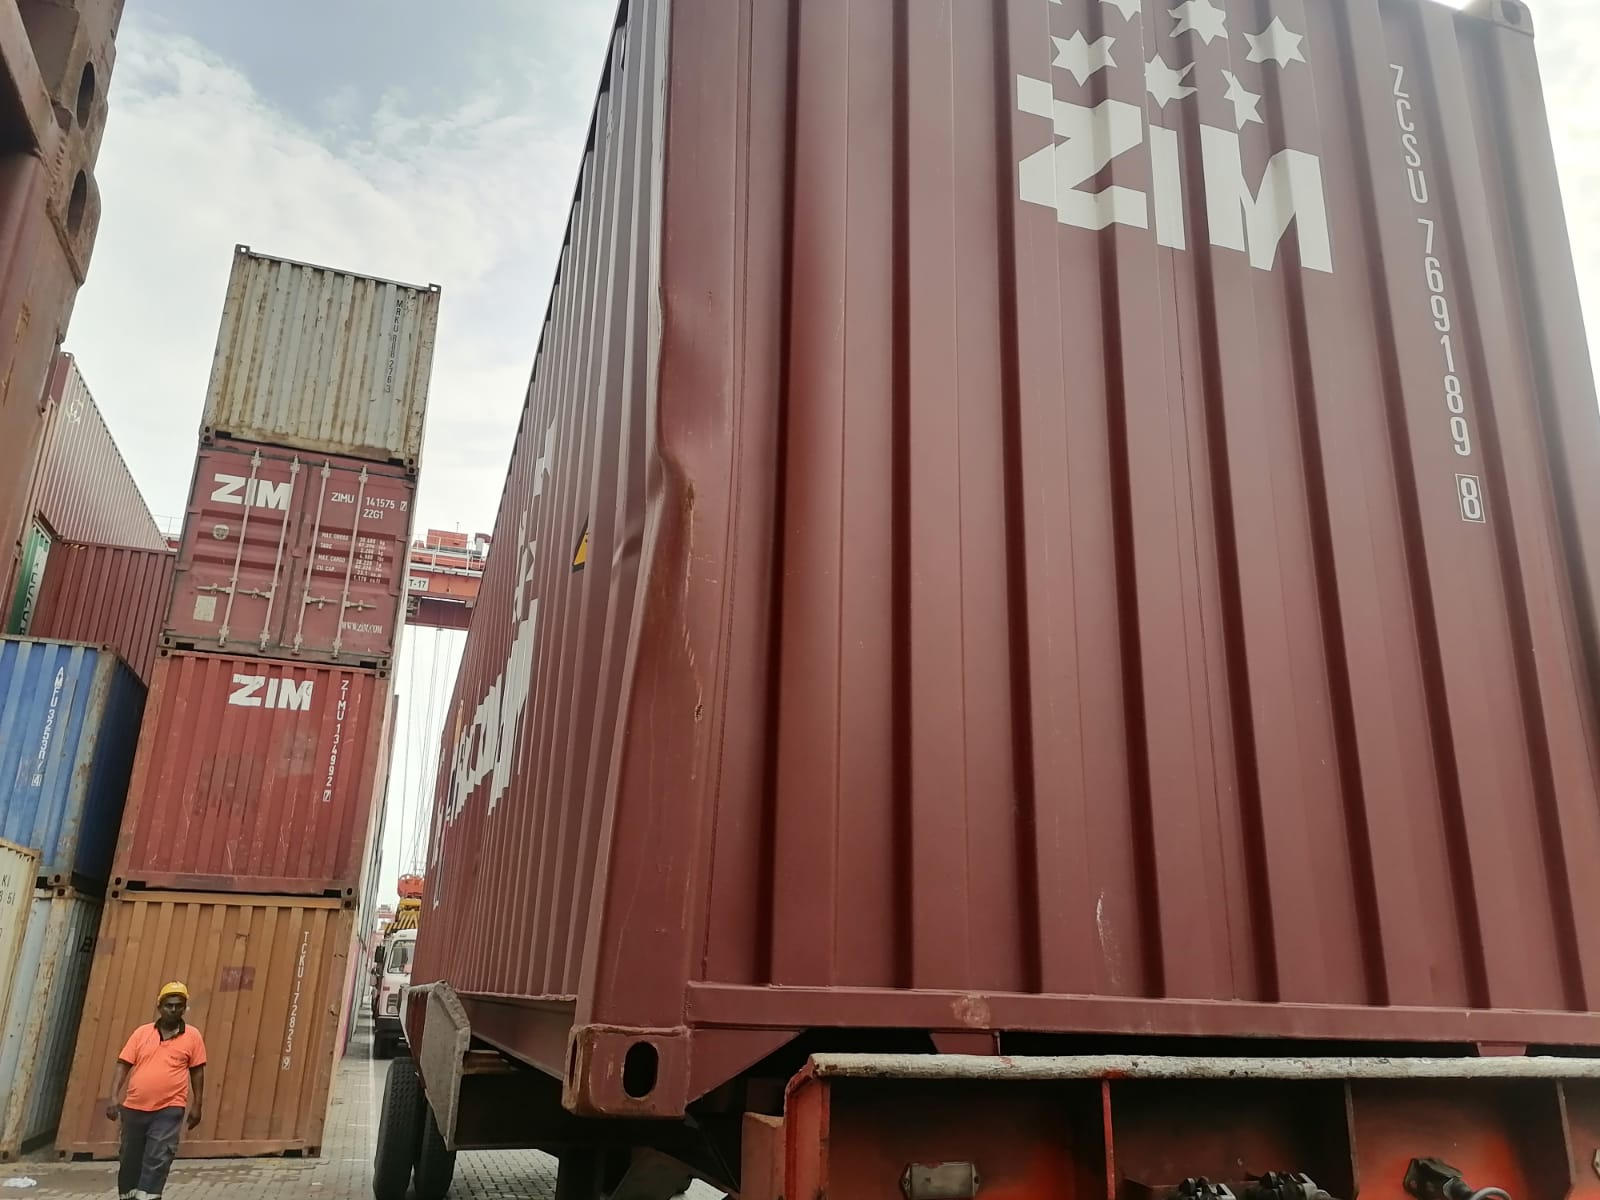moderate: (596, 304, 742, 705)
